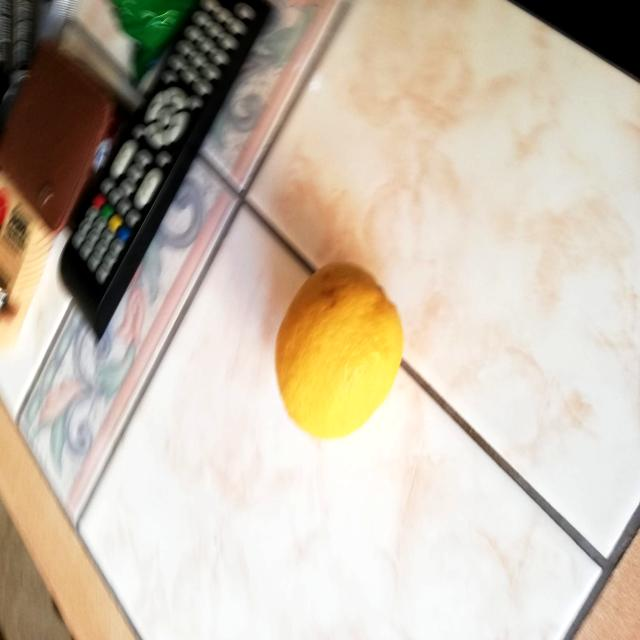lemon: (264, 247, 412, 449)
